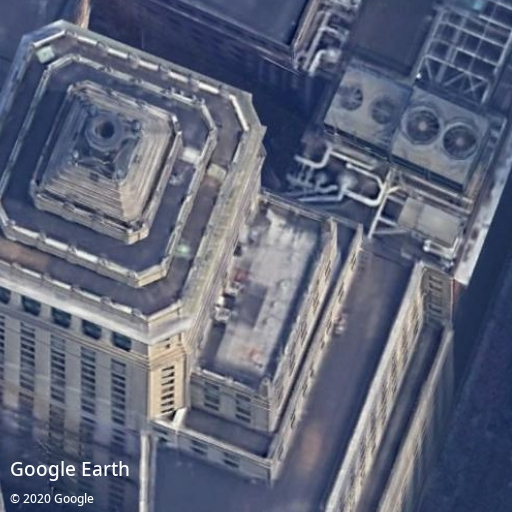Vent: (442, 125, 478, 158), (406, 110, 440, 143), (371, 98, 395, 125), (339, 86, 363, 111)
